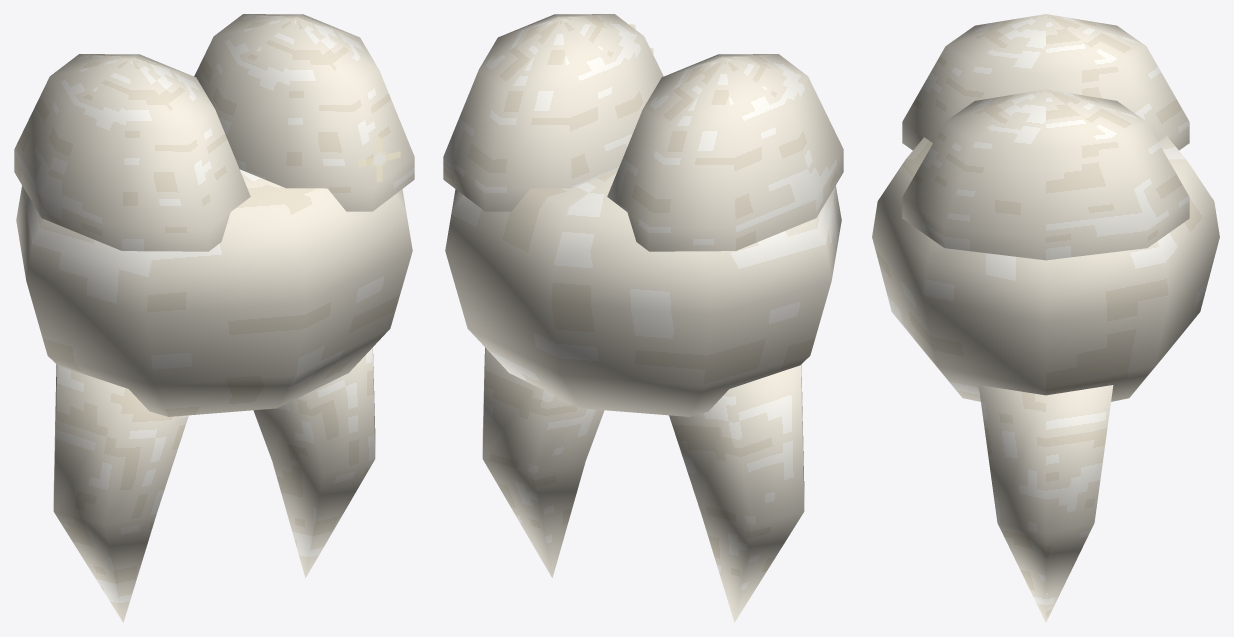
The model's file is life-tooth.glb.
3 views of the same model, side by side, from view 1: azimuth 30°, elevation 25°; view 2: azimuth 150°, elevation 25°; view 3: azimuth 270°, elevation 25° (orthographic). The views are drawn at different scales.
Parts seen in each view (by area): view 1: life.tooth; view 2: life.tooth; view 3: life.tooth.
Boxes of the visible parts, bbox=[...] form: life.tooth: bbox=[14, 14, 414, 622]; life.tooth: bbox=[443, 14, 843, 622]; life.tooth: bbox=[872, 14, 1219, 622].
Bounding box in the file's own units: 1.33 × 1.89 × 1.13.
Materials: 2 (2 with a texture image).
